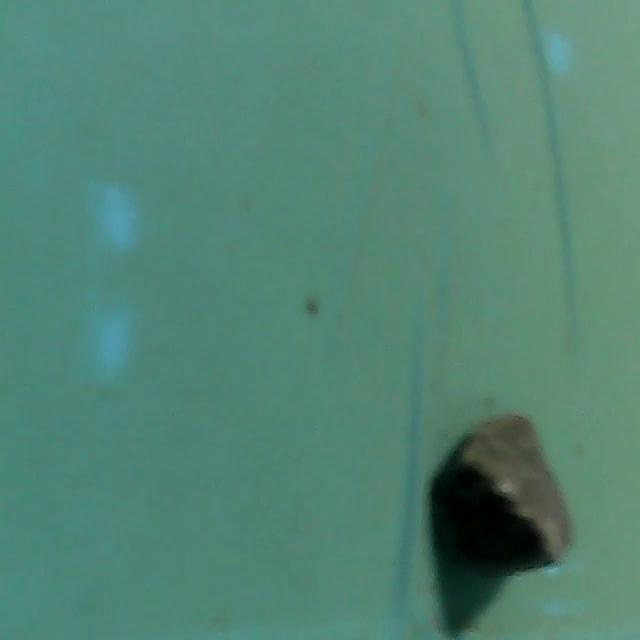rock: (431, 398, 586, 582)
